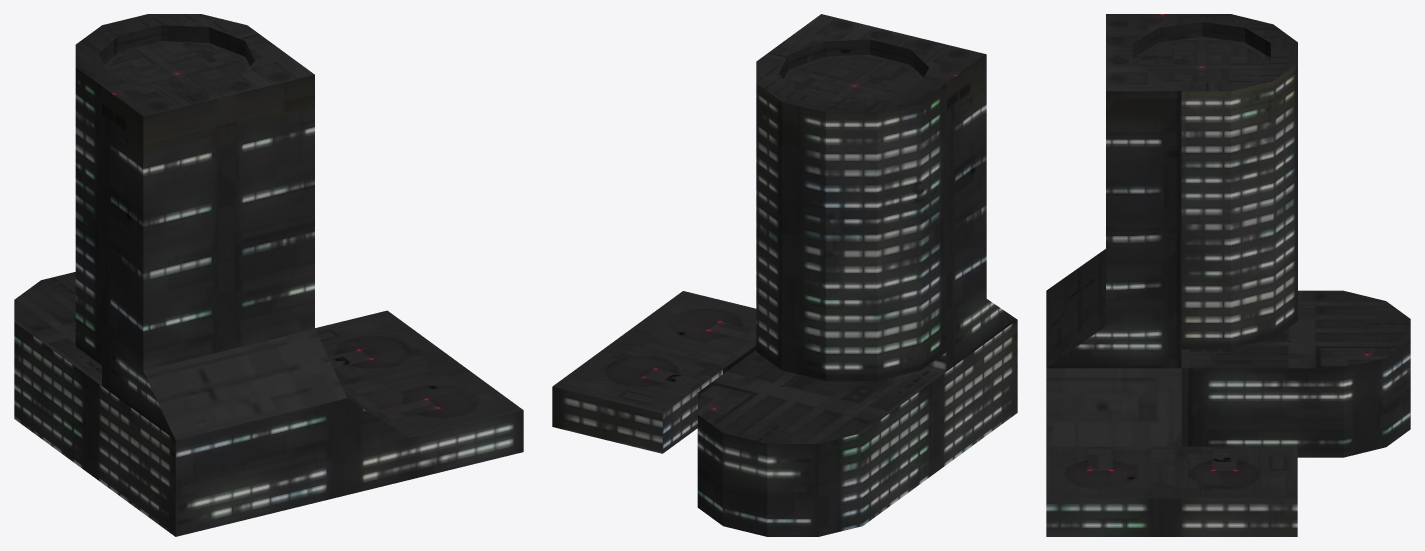
File: scifi_building_26.obj
The picture shows the model from 3 angles, left to right: view 1: azimuth 30°, elevation 25°; view 2: azimuth 150°, elevation 25°; view 3: azimuth 270°, elevation 25°; orthographic projection. The views are drawn at different scales.
Parts seen in each view (by area): view 1: building_26; view 2: building_26; view 3: building_26.
Boxes of the visible parts, x1,y1,x2,y2 form: building_26: [14, 14, 523, 536]; building_26: [552, 14, 1017, 536]; building_26: [1046, 14, 1410, 536].
Size of the model in its own units: 67.38 by 73.39 by 66.22.
